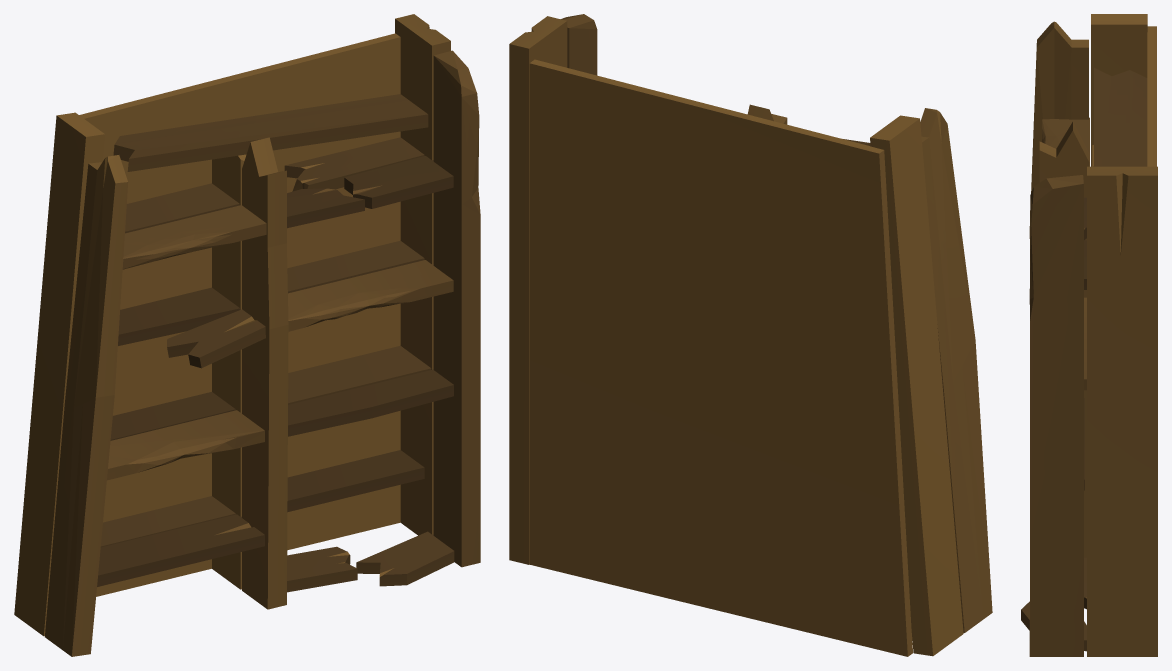
File: CupboardBrocken.fbx
3 renders of one model, left to right at view 1: azimuth 30°, elevation 25°; view 2: azimuth 150°, elevation 25°; view 3: azimuth 270°, elevation 25°, orthographic. The views are drawn at different scales.
Parts seen in each view (by area): view 1: CupboardBrocken; view 2: CupboardBrocken; view 3: CupboardBrocken.
Part boxes in pixels (x1=…): CupboardBrocken: x1=14, y1=14, x2=480, y2=656; CupboardBrocken: x1=509, y1=14, x2=992, y2=656; CupboardBrocken: x1=1021, y1=14, x2=1157, y2=656.
Bounding box in the file's own units: 193 × 228 × 58.7.
